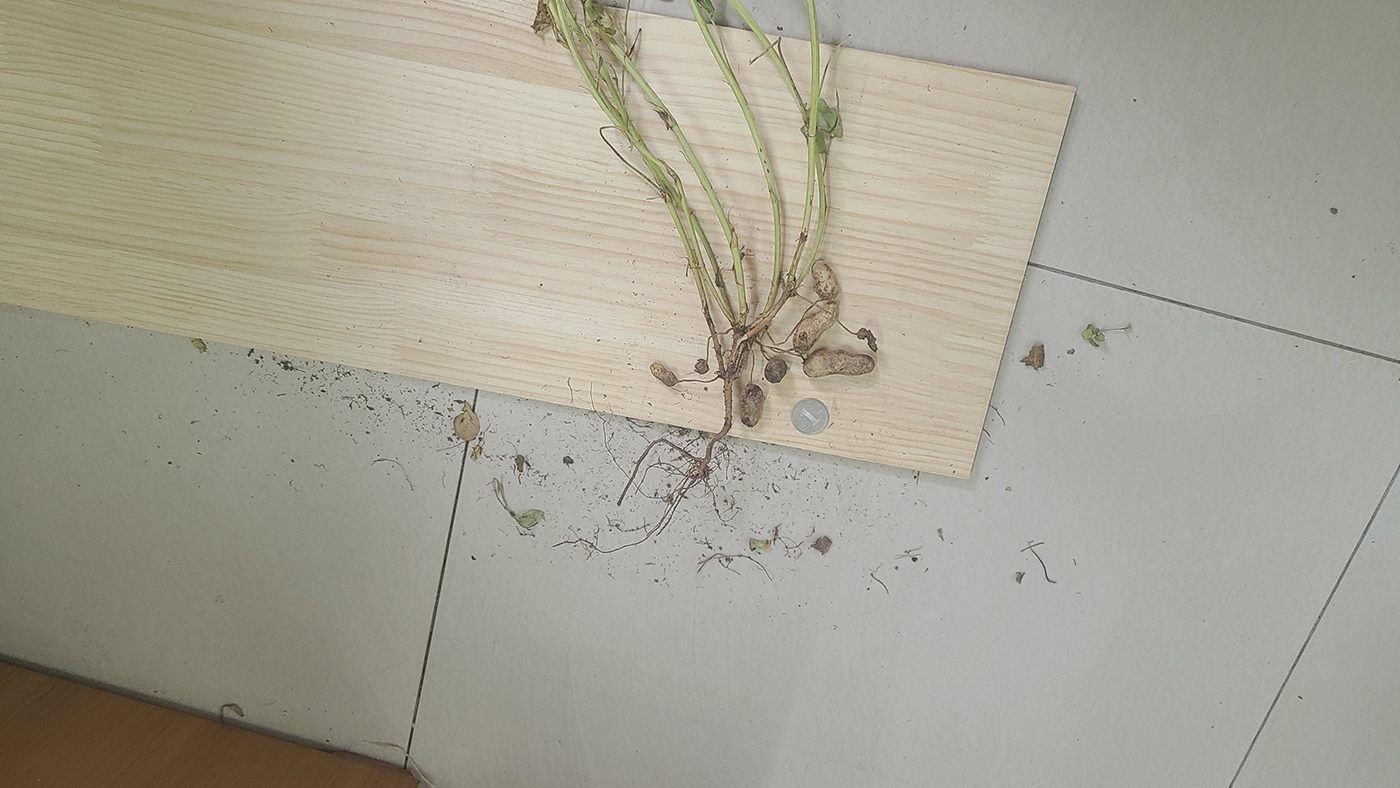l: (792, 302, 840, 355), (803, 348, 874, 377), (811, 259, 840, 301), (741, 382, 764, 428), (764, 357, 788, 384), (650, 363, 677, 387), (857, 328, 879, 352), (695, 357, 709, 374)
